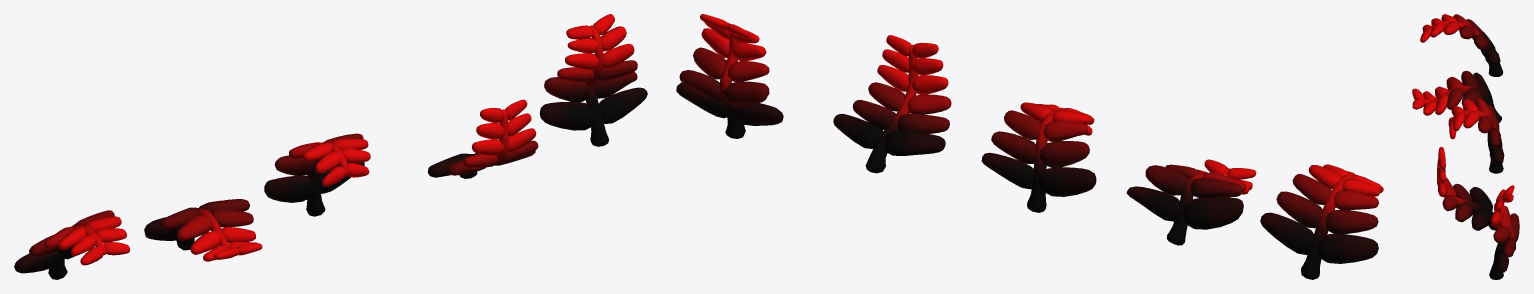
The model's file is KM_Fougere02.fbx.
3 renders of one model, left to right at view 1: azimuth 30°, elevation 25°; view 2: azimuth 150°, elevation 25°; view 3: azimuth 270°, elevation 25°, orthographic. The views are drawn at different scales.
Visible parts, largest first — view 1: Tige.007, Tige.005, Tige.004, Tige.006, Tige.003; view 2: Tige.006, Tige.003, Tige.005, Tige.007, Tige.004; view 3: Tige.006, Tige.004, Tige.005, Tige.007, Tige.003.
Boxes of the visible parts, box(x1,y1,x2,y2) form: Tige.007: box(539, 14, 647, 146); Tige.005: box(264, 133, 370, 216); Tige.004: box(144, 199, 262, 261); Tige.006: box(427, 99, 538, 178); Tige.003: box(14, 210, 129, 279); Tige.006: box(833, 35, 951, 173); Tige.003: box(1260, 164, 1383, 279); Tige.005: box(981, 102, 1096, 212); Tige.007: box(676, 14, 783, 138); Tige.004: box(1126, 159, 1256, 245); Tige.006: box(1437, 146, 1497, 230); Tige.004: box(1412, 70, 1501, 123); Tige.005: box(1448, 98, 1504, 173); Tige.007: box(1489, 185, 1519, 279); Tige.003: box(1420, 14, 1503, 76).
Size of the model in its own units: 3.03 by 0.5363 by 0.569.
